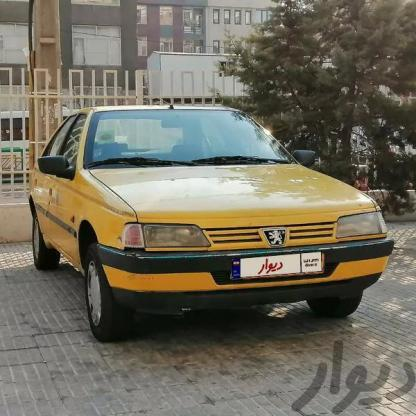Car: (25, 92, 397, 327)
